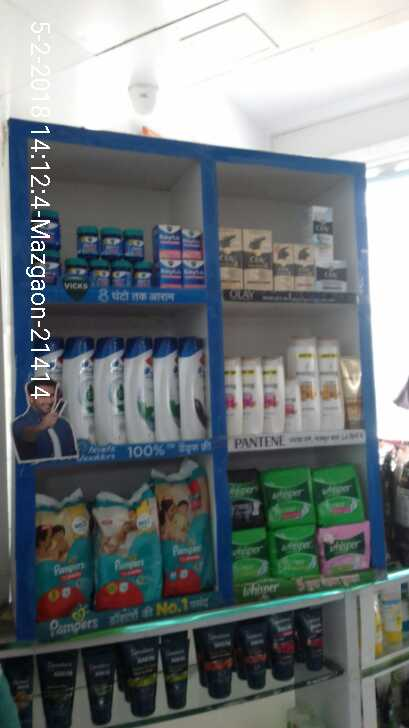beauty: (121, 335, 157, 443), (58, 337, 91, 450), (176, 332, 206, 443), (93, 336, 122, 439), (152, 338, 176, 449), (214, 224, 244, 286), (243, 229, 273, 291), (220, 354, 242, 433), (263, 359, 284, 434), (243, 357, 262, 434), (345, 357, 365, 429), (316, 375, 343, 427), (283, 374, 302, 436), (312, 207, 332, 260), (313, 255, 337, 298), (273, 234, 292, 284), (296, 334, 318, 377), (293, 242, 313, 289), (299, 373, 314, 426), (318, 336, 341, 369)
pharmacy: (35, 496, 97, 621), (89, 502, 162, 603), (156, 470, 209, 596), (259, 465, 314, 531), (270, 526, 327, 573), (320, 521, 371, 570), (315, 467, 362, 518), (230, 523, 268, 585), (222, 471, 257, 518), (154, 224, 181, 258), (121, 226, 145, 262), (183, 256, 214, 283), (99, 224, 124, 253), (185, 226, 204, 263), (162, 257, 184, 288), (89, 259, 115, 285), (78, 223, 97, 256), (132, 260, 151, 286), (113, 263, 130, 285)
